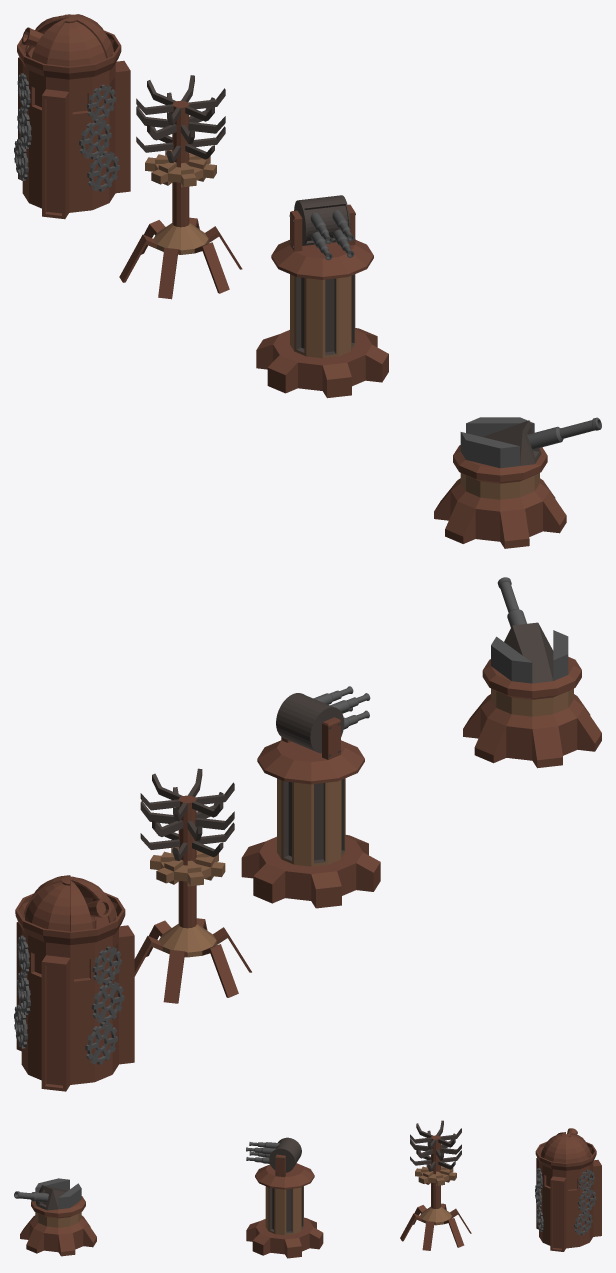
Rendered from Slow_Tower.fbx.
3 renders of one model, top to bottom at view 1: azimuth 30°, elevation 25°; view 2: azimuth 150°, elevation 25°; view 3: azimuth 270°, elevation 25°, orthographic. The views are drawn at different scales.
Parts seen in each view (by area): view 1: Tower, Base, Shaft, Top, Shaft.001, Top.001, H_Feet, H_Base, H_Weights, Shaft Acsents, Top Base, H_Ring (+8 smaller); view 2: Tower, Base, Shaft, Top, Top.001, Shaft.001, H_Feet, H_Base, Turret_Top, H_Weights, Shaft Acsents, H_Ring (+9 smaller); view 3: Tower, Base, Shaft, Top, Shaft.001, Top.001, H_Feet, H_Base, H_Weights, Turret_Top, Shaft Acsents, Top Base (+9 smaller).
Part boxes in pixels (x1,y1,x2,y2): Tower: [17, 14, 130, 219]; Base: [256, 328, 388, 398]; Shaft: [119, 100, 242, 299]; Top: [136, 75, 225, 162]; Shaft.001: [290, 274, 355, 358]; Top.001: [271, 204, 373, 279]; H_Feet: [434, 481, 566, 548]; H_Base: [450, 478, 549, 541]; H_Weights: [460, 417, 534, 468]; Shaft Acsents: [296, 274, 354, 355]; Top Base: [145, 150, 216, 187]; H_Ring: [453, 445, 547, 483]; Tower: [15, 875, 134, 1091]; Base: [241, 835, 380, 908]; Shaft: [134, 795, 251, 1003]; Top: [140, 768, 234, 860]; Top.001: [257, 717, 364, 784]; Shaft.001: [277, 778, 345, 866]; H_Feet: [463, 697, 601, 768]; H_Base: [480, 694, 584, 760]; Turret_Top: [276, 693, 344, 753]; H_Weights: [491, 630, 568, 683]; Shaft Acsents: [283, 778, 344, 863]; H_Ring: [482, 657, 581, 699]; Tower: [535, 1128, 601, 1251]; Base: [246, 1217, 323, 1258]; Shaft: [400, 1135, 471, 1250]; Top: [410, 1120, 461, 1171]; Shaft.001: [265, 1186, 303, 1235]; Top.001: [255, 1154, 314, 1189]; H_Feet: [20, 1218, 96, 1256]; H_Base: [29, 1215, 86, 1252]; H_Weights: [35, 1178, 81, 1209]; Turret_Top: [269, 1137, 301, 1172]; Shaft Acsents: [269, 1186, 303, 1233]; Top Base: [415, 1164, 456, 1185].
Size of the model in its own units: 550 by 754 by 3656.
